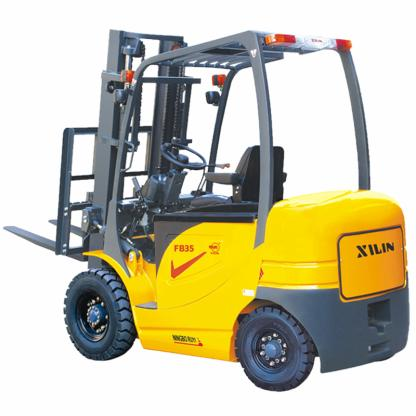forklift: (2, 25, 411, 393)
